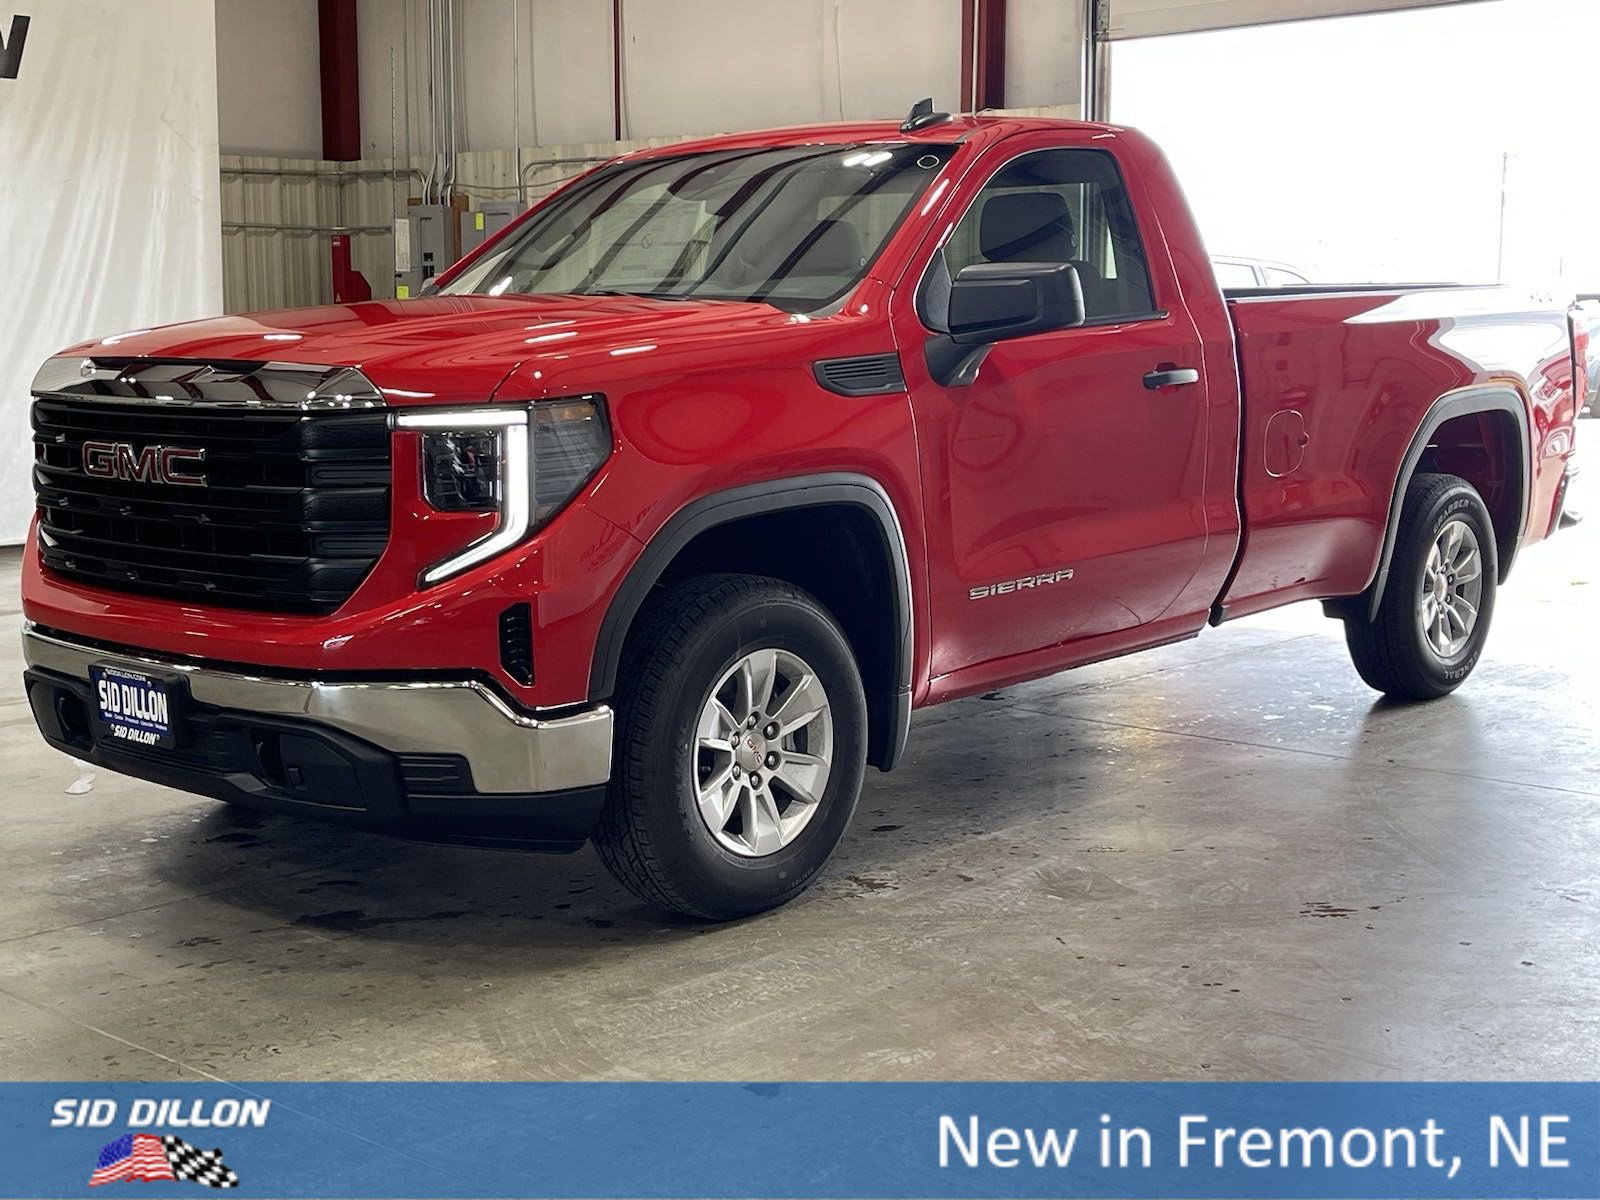car: (13, 93, 1594, 932)
